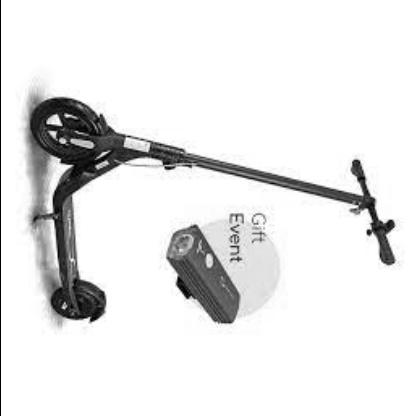bike: (29, 96, 406, 327)
